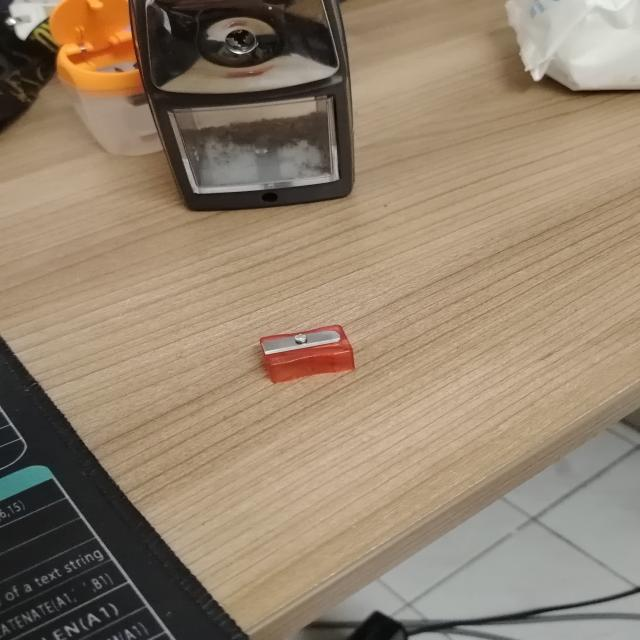sharpener: (129, 0, 354, 210), (50, 0, 160, 155), (260, 325, 354, 383)
